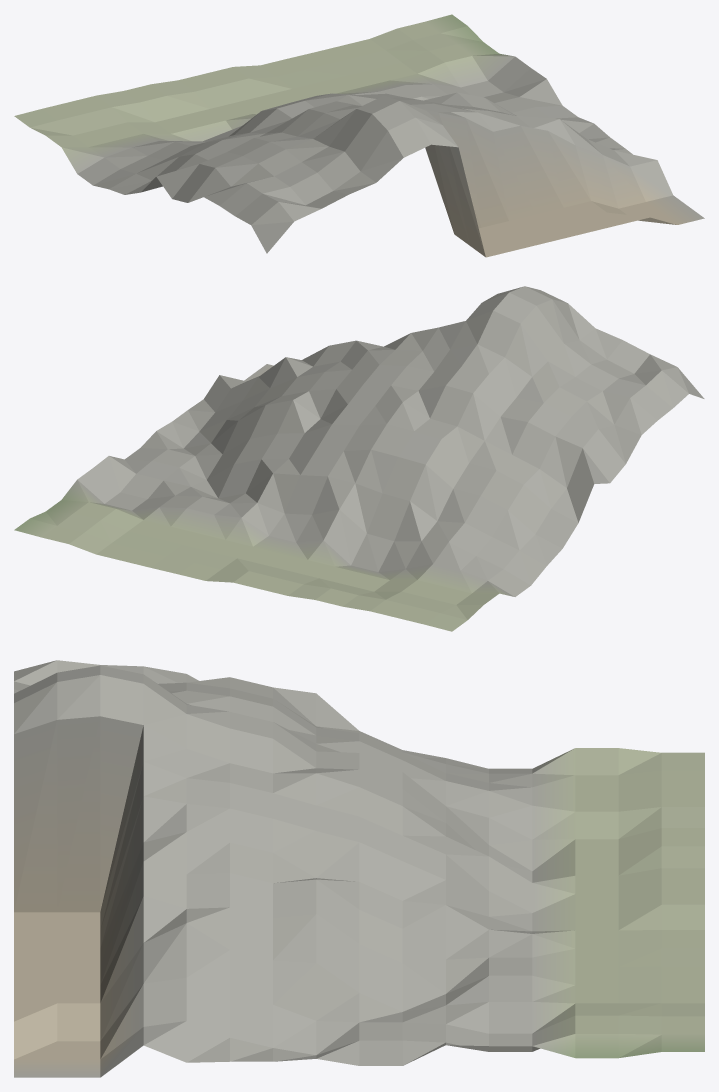
3 renders of one model, top to bottom at view 1: azimuth 30°, elevation 25°; view 2: azimuth 150°, elevation 25°; view 3: azimuth 270°, elevation 25°, orthographic. The views are drawn at different scales.
Bounding box in the file's own units: 32 × 11.26 × 32.
